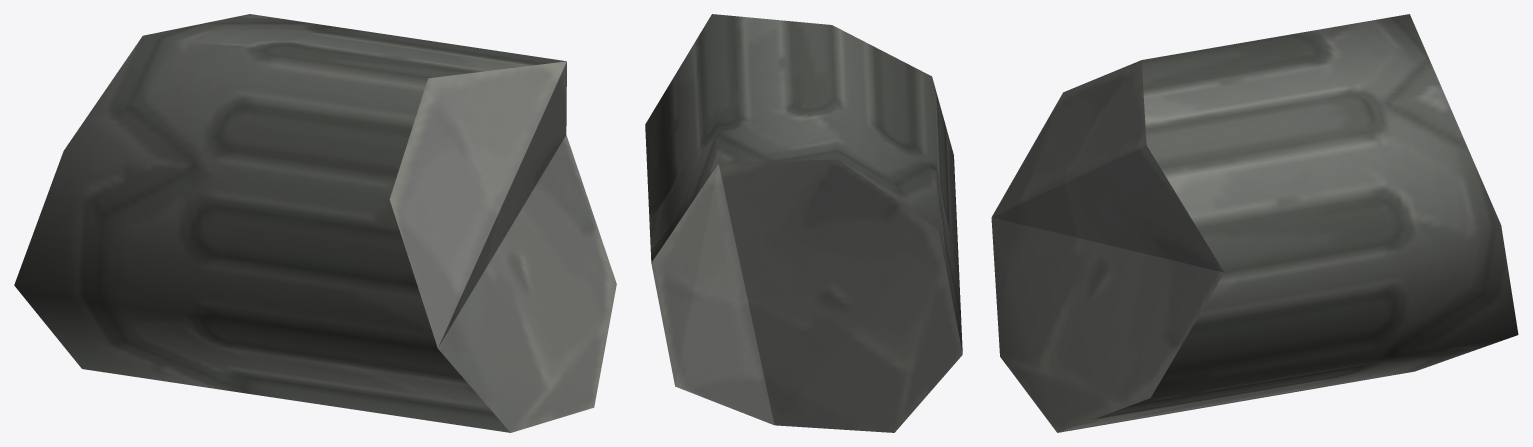
The model's file is sc_dungeon_moshenta_zhuzi_002_c.FBX.
The picture shows the model from 3 angles, left to right: view 1: azimuth 30°, elevation 25°; view 2: azimuth 150°, elevation 25°; view 3: azimuth 270°, elevation 25°; orthographic projection. The views are drawn at different scales.
Parts seen in each view (by area): view 1: sc_dungeon_moshenta_zhuzi_002_c; view 2: sc_dungeon_moshenta_zhuzi_002_c; view 3: sc_dungeon_moshenta_zhuzi_002_c.
Boxes of the visible parts, x1,y1,x2,y2 form: sc_dungeon_moshenta_zhuzi_002_c: (14, 14, 616, 432); sc_dungeon_moshenta_zhuzi_002_c: (645, 14, 962, 432); sc_dungeon_moshenta_zhuzi_002_c: (991, 14, 1518, 432).
Size of the model in its own units: 1.82 by 1.8 by 1.3.
1 material, 1 textured.
